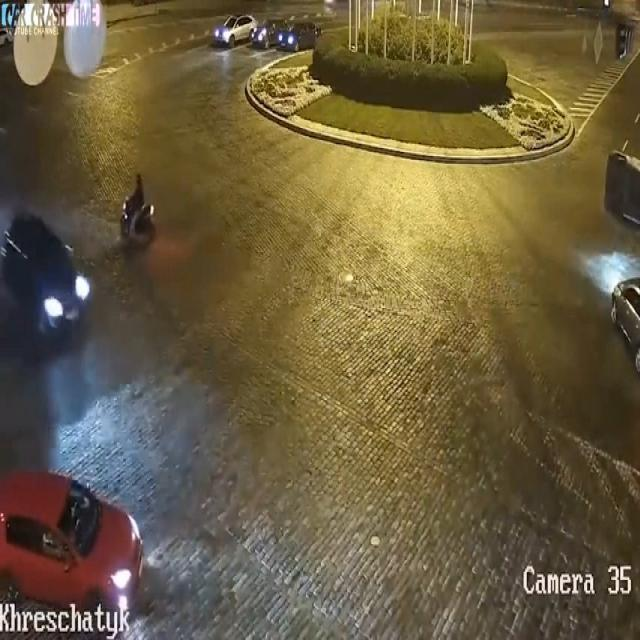Accident: (593, 107, 640, 233)
